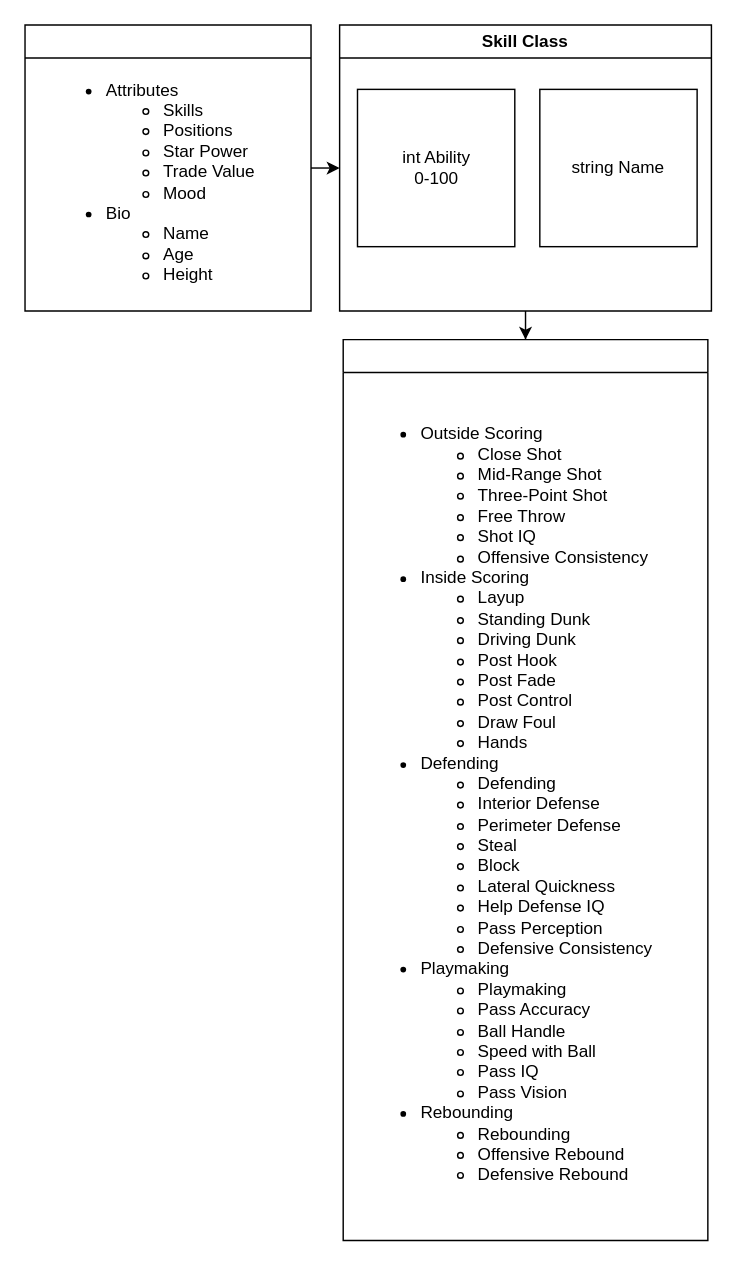
Image size: 736x1266. Some labels were removed from this diagram. The shapes that lost their labels are listed below. From the top down, each one's box as (x1, y1, x2, y2) in pixels, then its label:
(24, 24, 311, 311): Player
(342, 338, 708, 1241): Name
